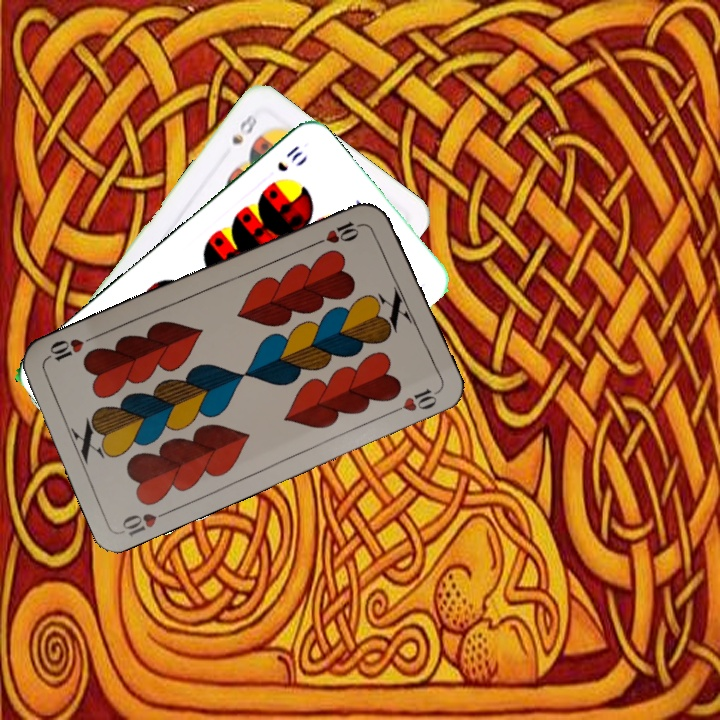H10: (118, 505, 175, 539), (310, 217, 367, 248)
S10: (273, 141, 305, 174)
S8: (227, 105, 260, 148)
